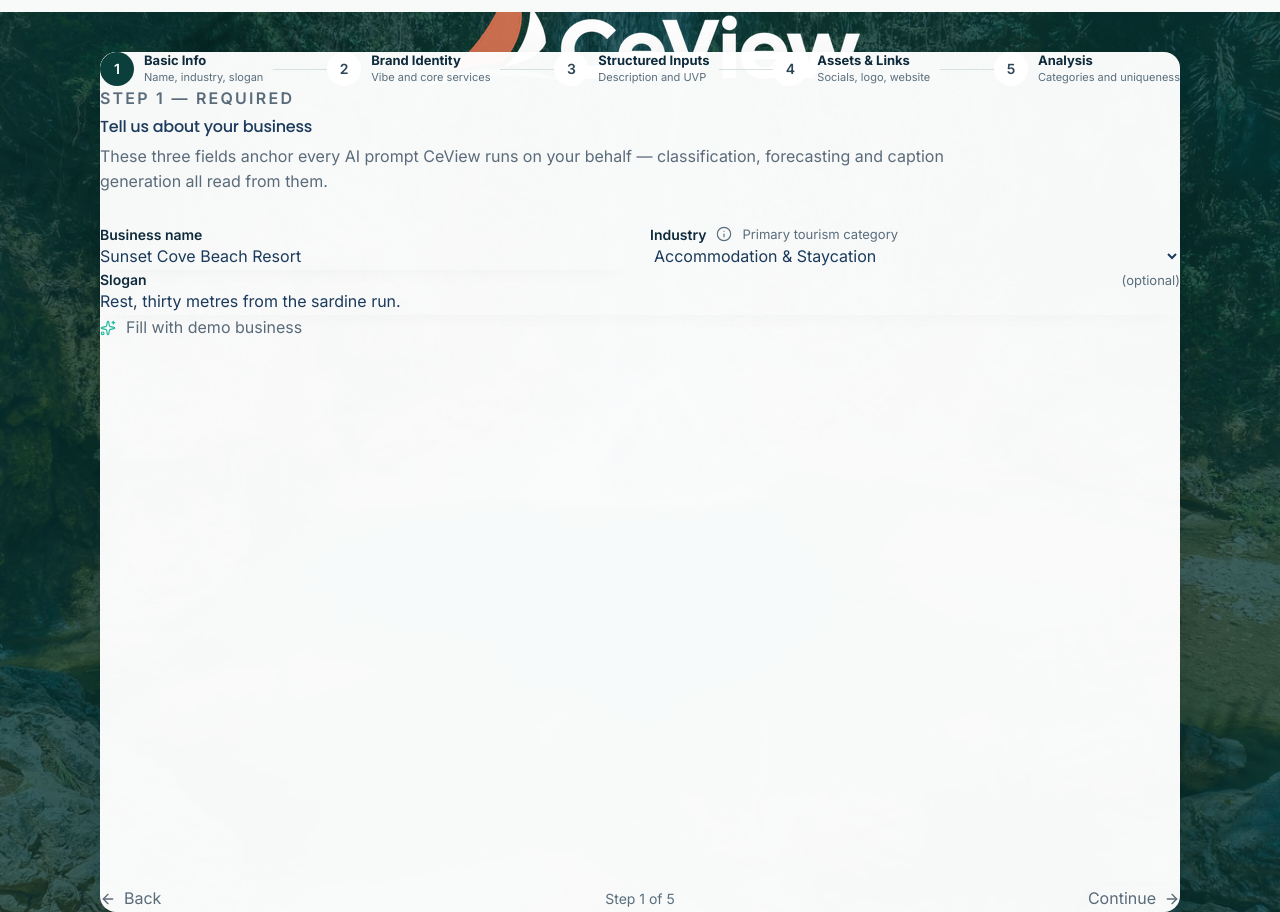
Test case: OnboardingWizard › marks earlier rail steps done and later ones pending as the index advances
The image size is (1280, 912).
Expected: the text "Step 1 of 5" is shown, [605,888,675,910]
Click the button "Continue".
click(1134, 899)  # box [1088,886,1180,911]
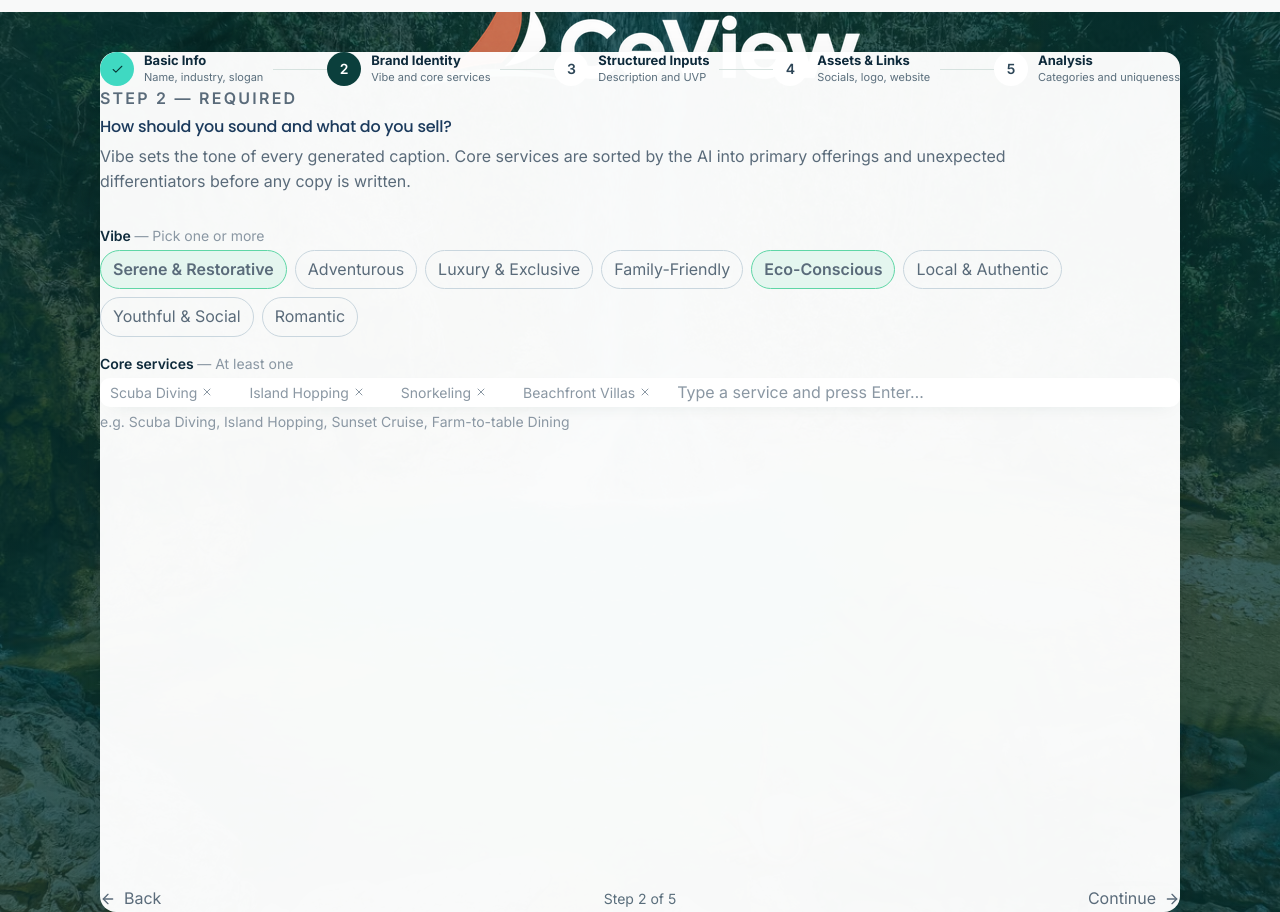
Expected: the text "Step 2 of 5" is shown, [604,888,676,910]
